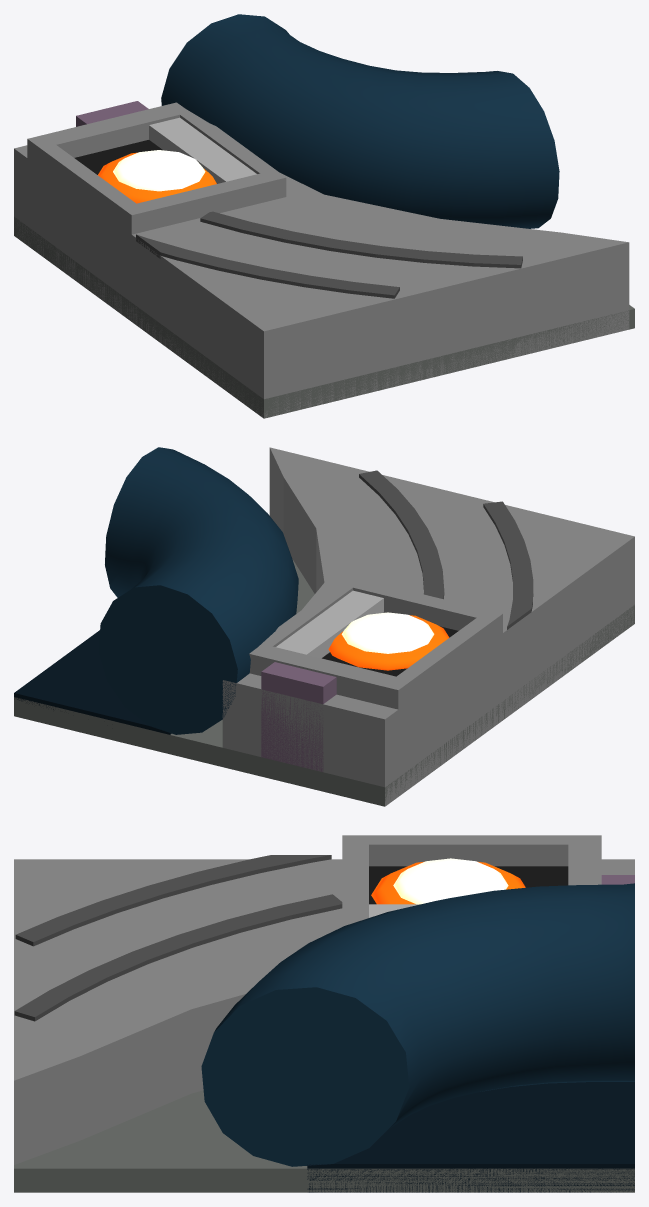
File: newshb-117-f4.glb
3 renders of one model, top to bottom at view 1: azimuth 30°, elevation 25°; view 2: azimuth 150°, elevation 25°; view 3: azimuth 270°, elevation 25°, orthographic. The views are drawn at different scales.
Visible parts, largest first — view 1: newshb-117, newshb-117-f4-flash-273, newshb-117-f4-flash-271; view 2: newshb-117, newshb-117-f4-flash-273, newshb-117-f4-flash-271; view 3: newshb-117, newshb-117-f4-flash-273.
Boxes of the visible parts, x1,y1,x2,y2 form: newshb-117: (14, 14, 634, 418); newshb-117-f4-flash-273: (98, 150, 216, 203); newshb-117-f4-flash-271: (149, 117, 256, 183); newshb-117: (14, 447, 634, 806); newshb-117-f4-flash-273: (328, 612, 449, 670); newshb-117-f4-flash-271: (276, 590, 383, 658); newshb-117: (14, 835, 634, 1192); newshb-117-f4-flash-273: (371, 858, 525, 904).
Size of the model in its own units: 2 by 0.8591 by 2.33.
